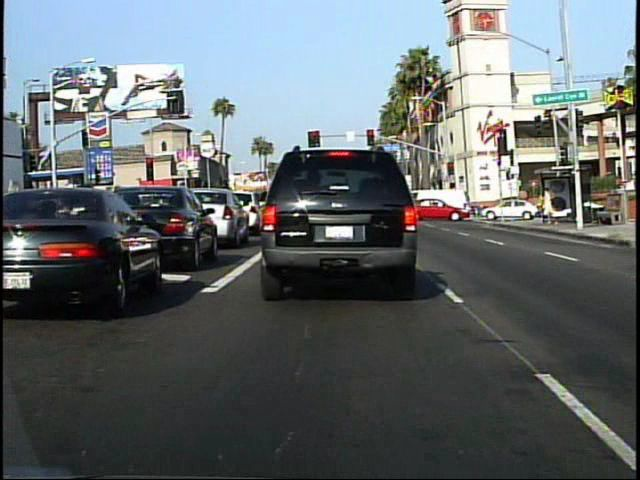person: (539, 182, 557, 226)
